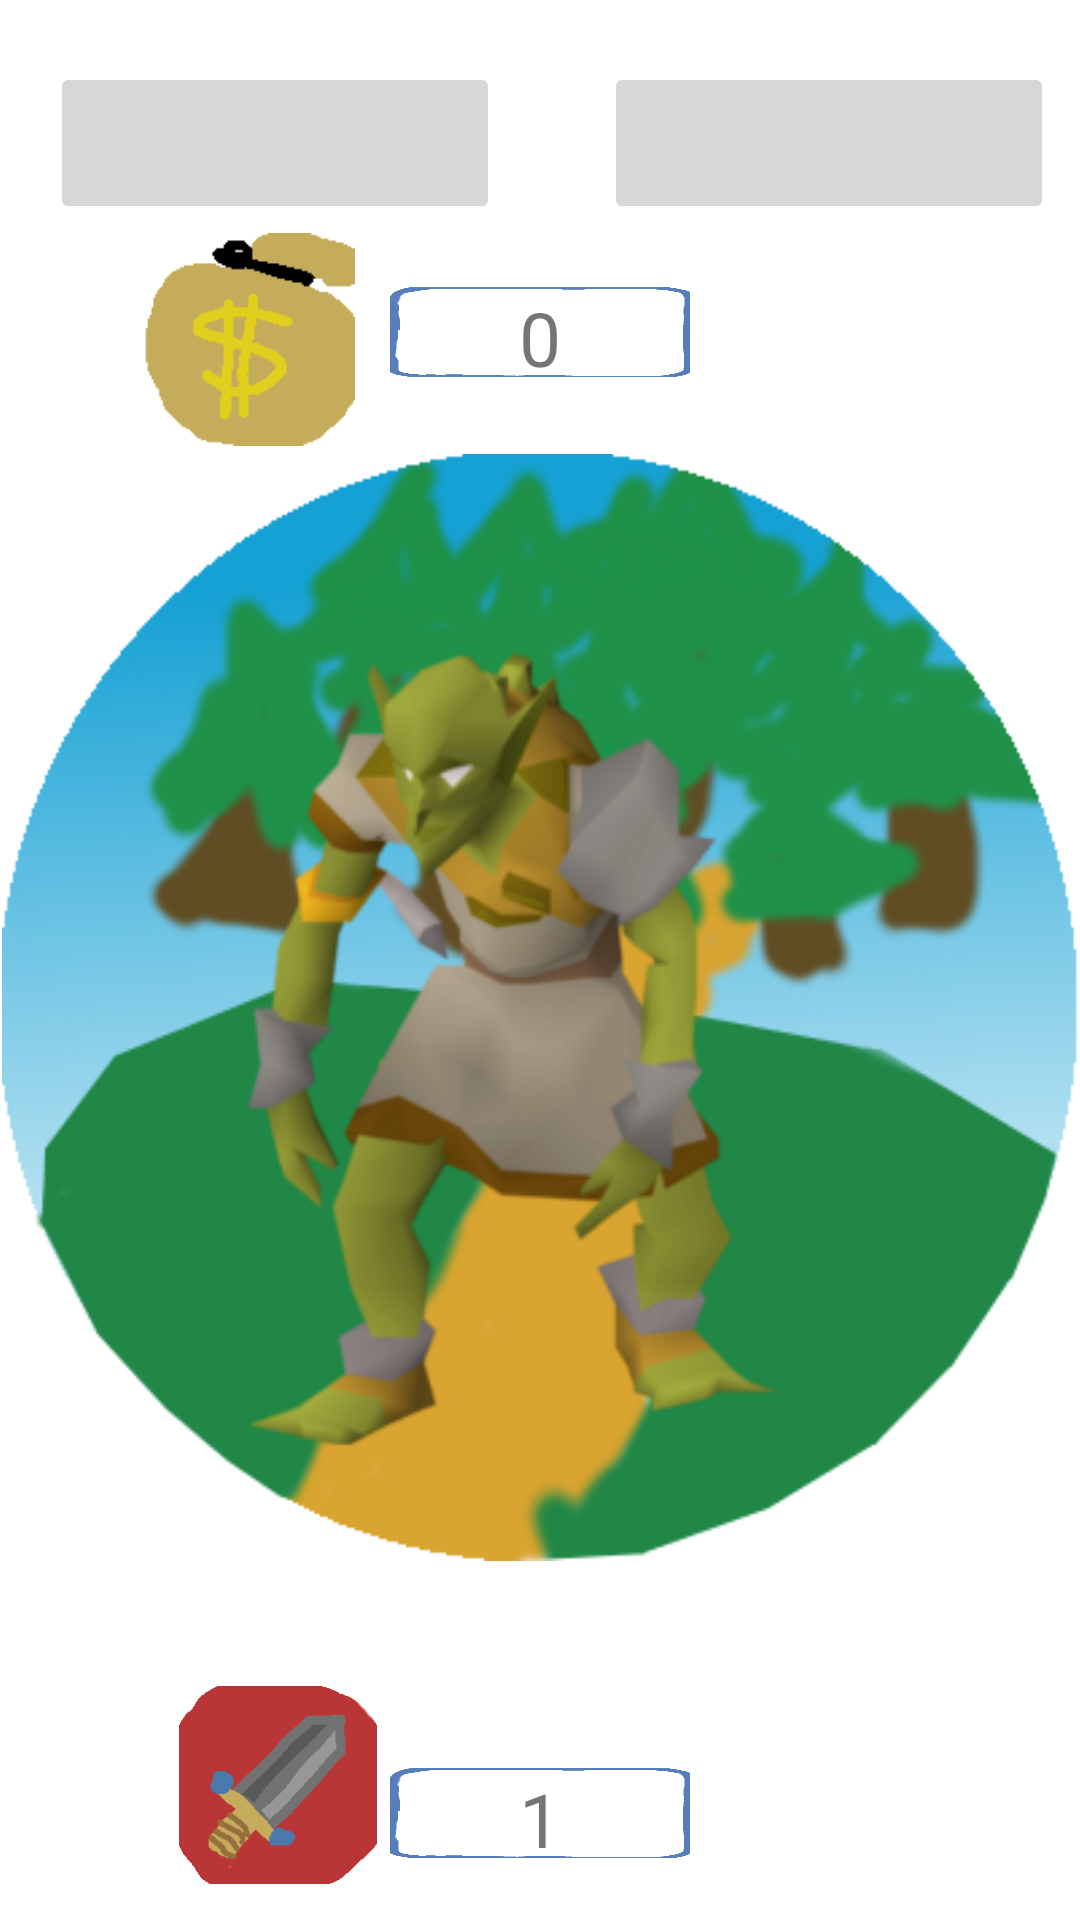

Named icons in this screenshot (1080px x 1920px) and their bounding boxes, [x1=x1, y1=y1, x2=x2, y2=y2]:
moneybag: [x1=145, y1=233, x2=355, y2=446]
sword: [x1=179, y1=1686, x2=377, y2=1884]
